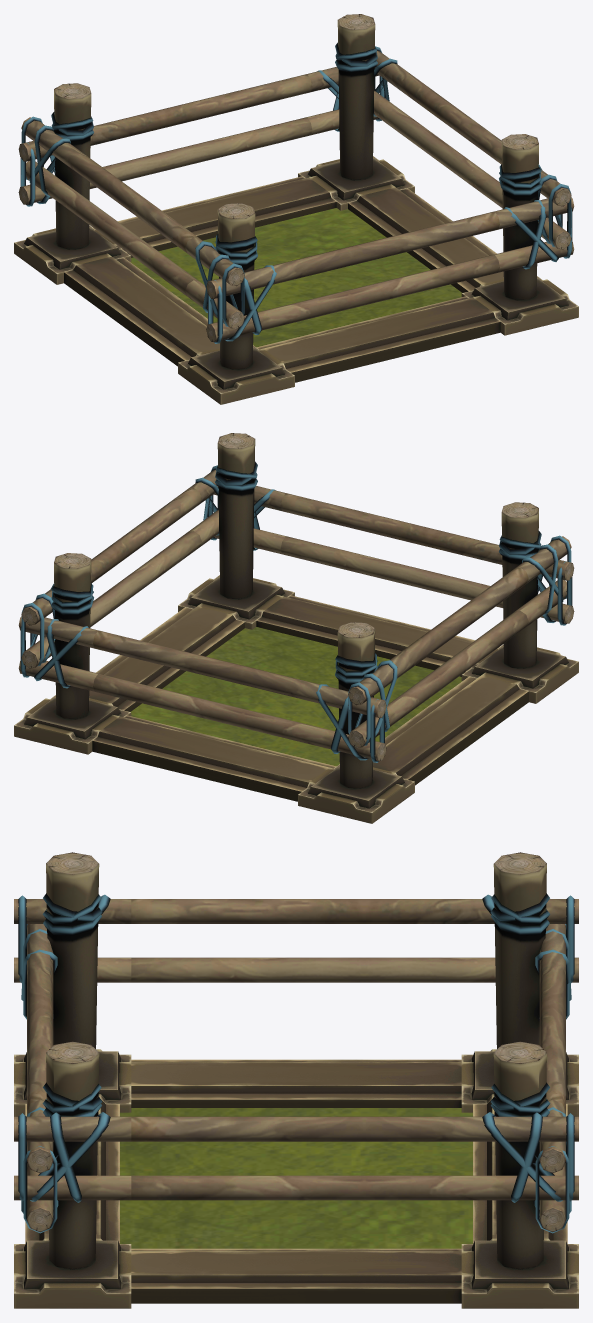
Rendered from trap_445_xbfence_06.fbx.
3 renders of one model, top to bottom at view 1: azimuth 30°, elevation 25°; view 2: azimuth 150°, elevation 25°; view 3: azimuth 270°, elevation 25°, orthographic. The views are drawn at different scales.
Visible parts, largest first — view 1: trap_445_xbfence_08, trap_445_xbfence_05, trap_445_xbfence_02, trap_445_xbfence_06, grass, trap_445_xbfence_07, trap_445_xbfence_01, trap_445_xbfence_04, trap_445_xbfence_03; view 2: trap_445_xbfence_02, trap_445_xbfence_05, trap_445_xbfence_08, trap_445_xbfence_04, grass, trap_445_xbfence_01, trap_445_xbfence_07, trap_445_xbfence_06, trap_445_xbfence_03; view 3: trap_445_xbfence_03, trap_445_xbfence_05, grass, trap_445_xbfence_01, trap_445_xbfence_07, trap_445_xbfence_04, trap_445_xbfence_06, trap_445_xbfence_02, trap_445_xbfence_08.
Part boxes in pixels (<box>): trap_445_xbfence_08: <box>256,212,500,382</box>; trap_445_xbfence_05: <box>64,148,219,366</box>; trap_445_xbfence_02: <box>92,74,336,257</box>; trap_445_xbfence_06: <box>178,203,294,404</box>; grass: <box>130,208,461,347</box>; trap_445_xbfence_07: <box>461,134,578,335</box>; trap_445_xbfence_01: <box>298,14,414,210</box>; trap_445_xbfence_04: <box>14,83,131,284</box>; trap_445_xbfence_03: <box>348,69,503,292</box>; trap_445_xbfence_02: <box>92,631,336,801</box>; trap_445_xbfence_05: <box>373,567,528,785</box>; trap_445_xbfence_08: <box>256,493,500,676</box>; trap_445_xbfence_04: <box>298,622,414,823</box>; grass: <box>131,627,462,766</box>; trap_445_xbfence_01: <box>14,553,131,754</box>; trap_445_xbfence_07: <box>178,433,294,629</box>; trap_445_xbfence_06: <box>461,502,578,703</box>; trap_445_xbfence_03: <box>89,488,244,711</box>; trap_445_xbfence_03: <box>131,1116,461,1303</box>; trap_445_xbfence_05: <box>131,899,461,1107</box>; grass: <box>120,1108,472,1248</box>; trap_445_xbfence_01: <box>461,1041,578,1308</box>; trap_445_xbfence_07: <box>14,1041,131,1308</box>; trap_445_xbfence_04: <box>461,852,578,1116</box>; trap_445_xbfence_06: <box>14,852,131,1116</box>; trap_445_xbfence_02: <box>473,960,567,1243</box>; trap_445_xbfence_08: <box>25,960,119,1243</box>.
Size of the model in its own units: 1.26 by 0.569 by 1.26.
Materials: 1 (1 with a texture image).
